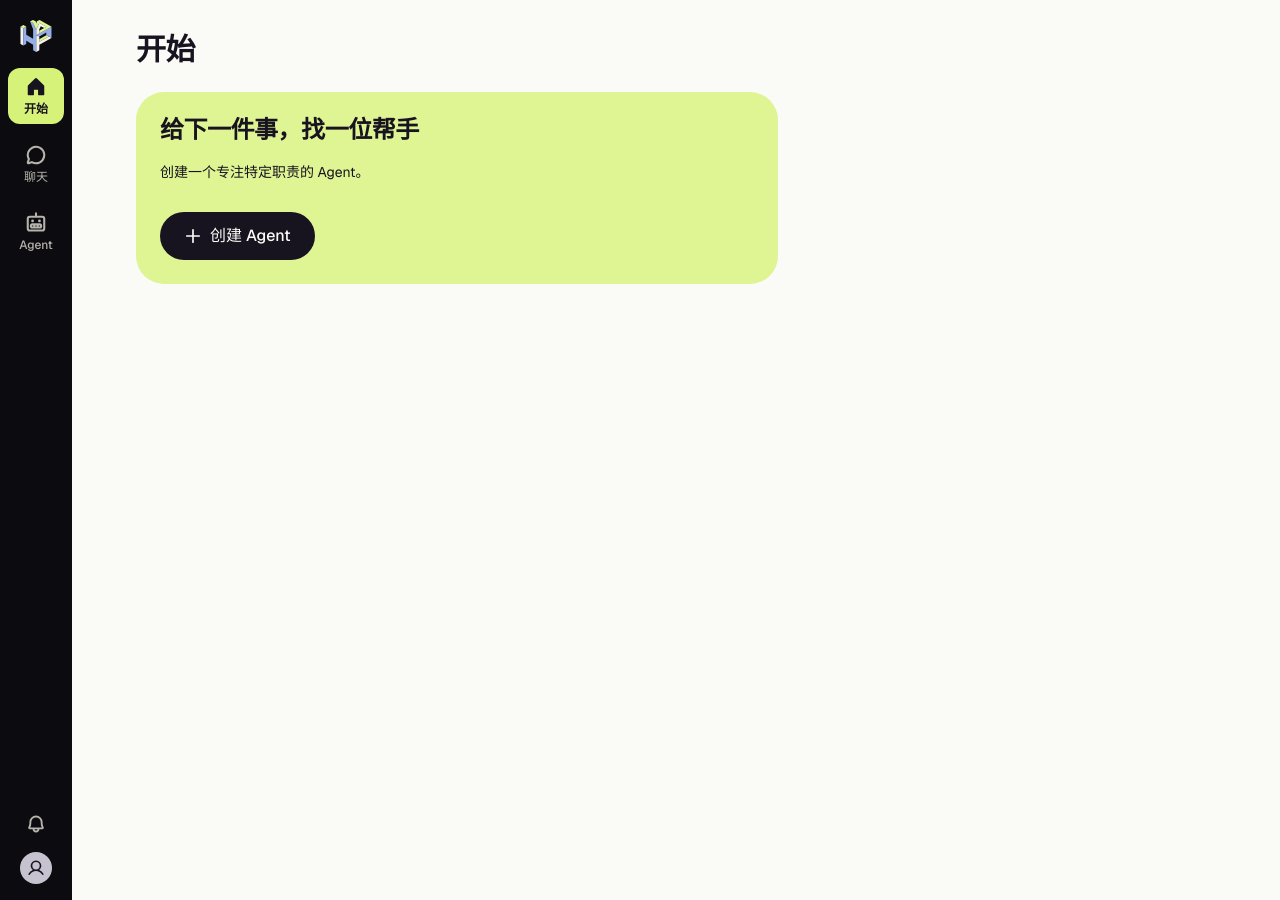
Scenario: contacts fixture page › opens the selected Agent detail from a contact card
The image size is (1280, 900).
Step 1. Click the button "Agent" → (36, 232), box [8, 204, 64, 260]
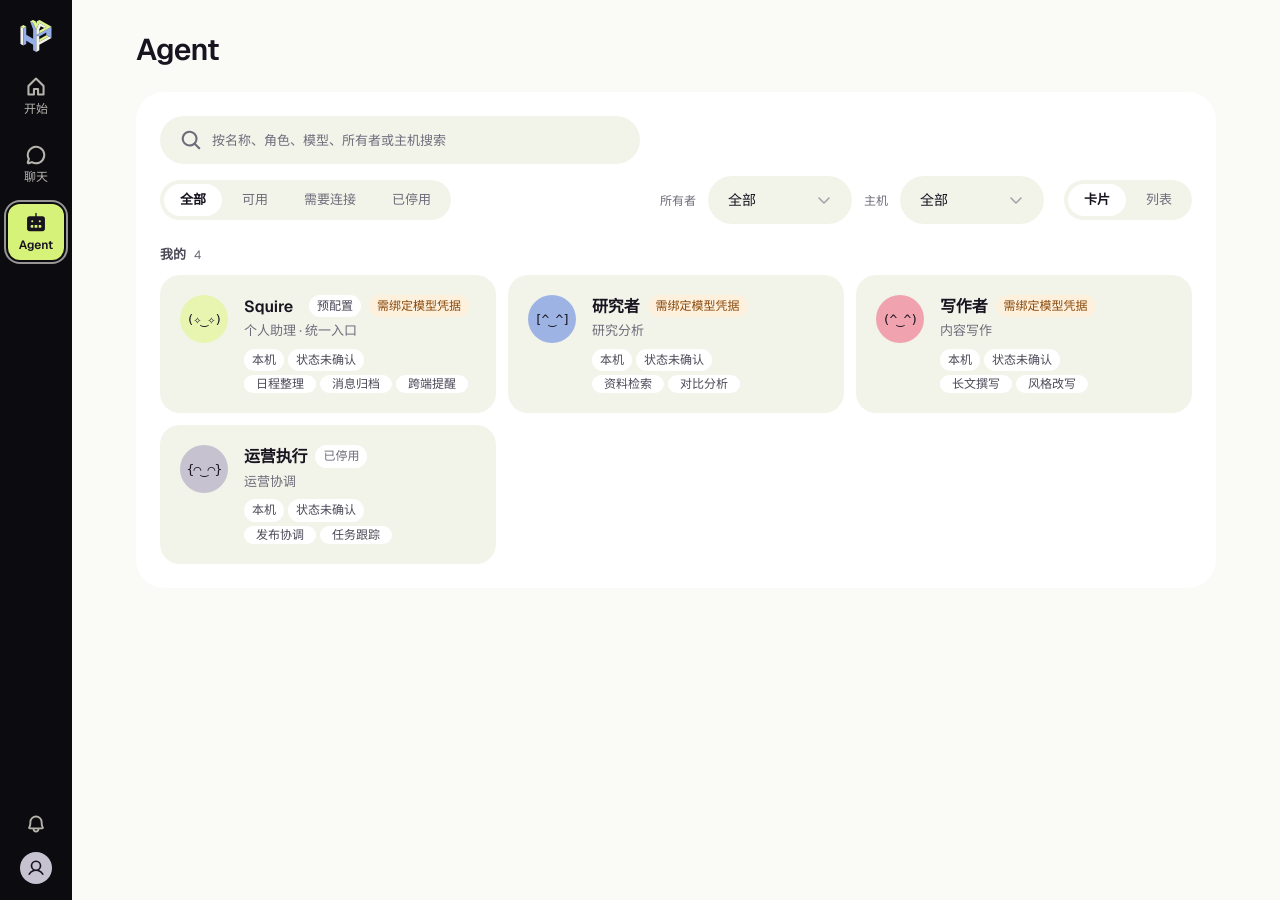
Step 2. Click the button with test id "contact-agent-researcher" → (552, 319), box [508, 275, 844, 413]
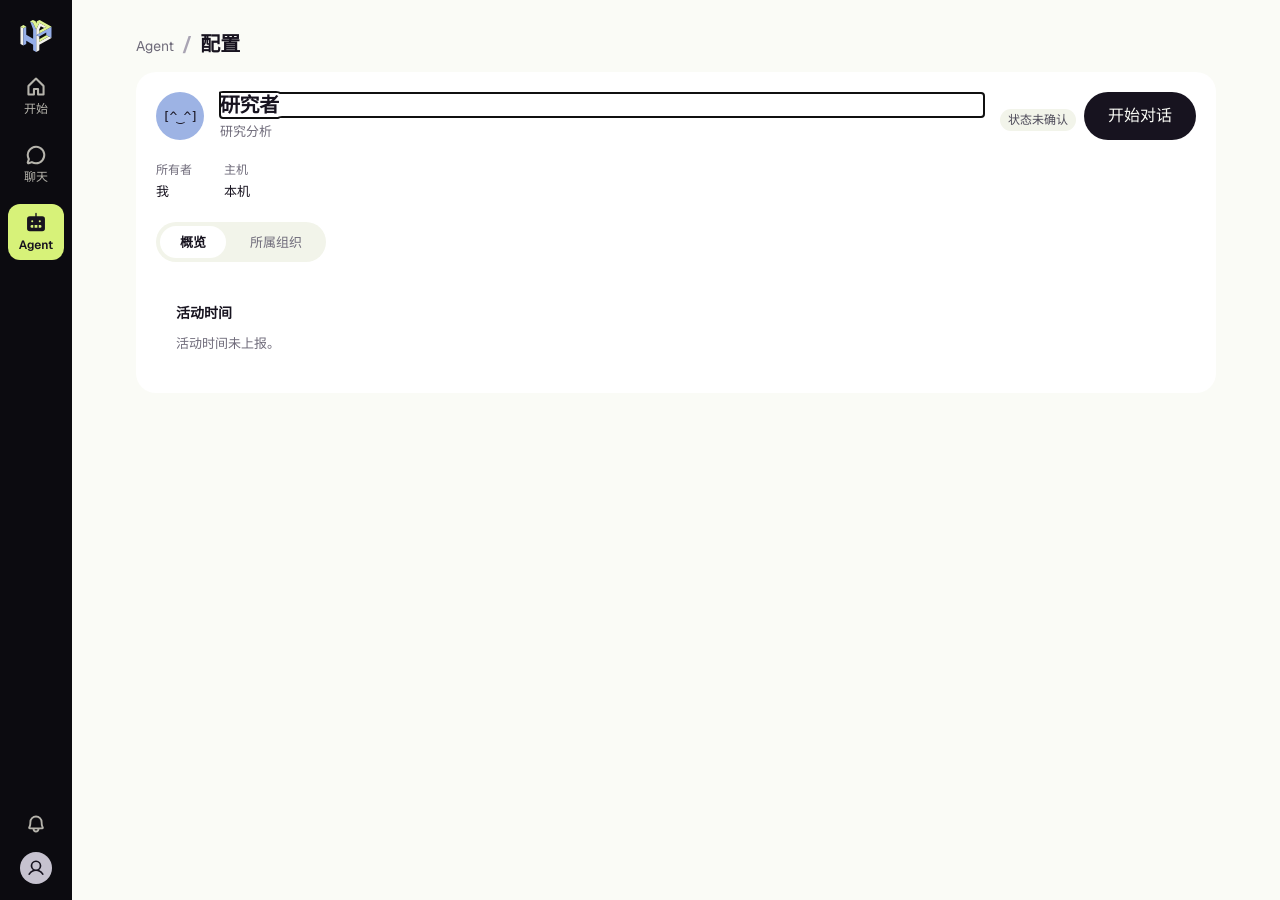
Check: the heading "研究者" is shown, box [220, 92, 279, 118]
Check: the element showing "[^‿^] 研究者 研究分析 状态未确认 开始对话 所有者 我 主机 本机 概览 所属组织 活动时间 活动时间未上报。" is shown, box [136, 72, 1216, 393]
